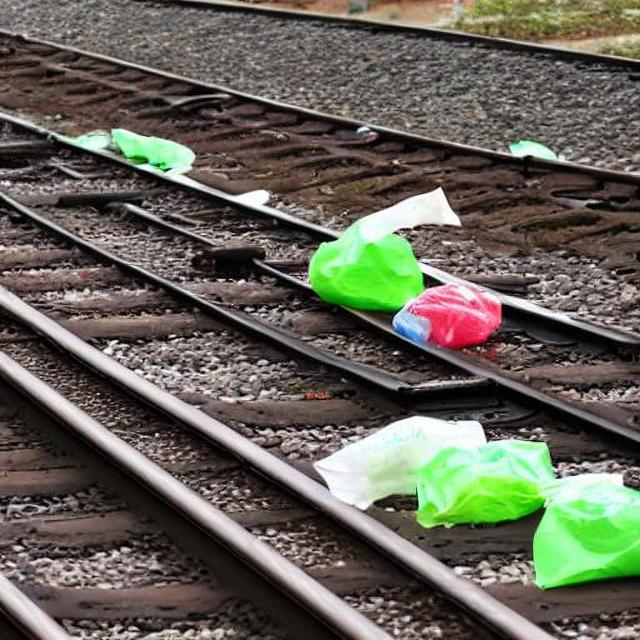plastic bag: (314, 412, 488, 511), (540, 470, 640, 588), (424, 434, 538, 527), (306, 218, 420, 308), (87, 116, 198, 181), (398, 280, 506, 343)
